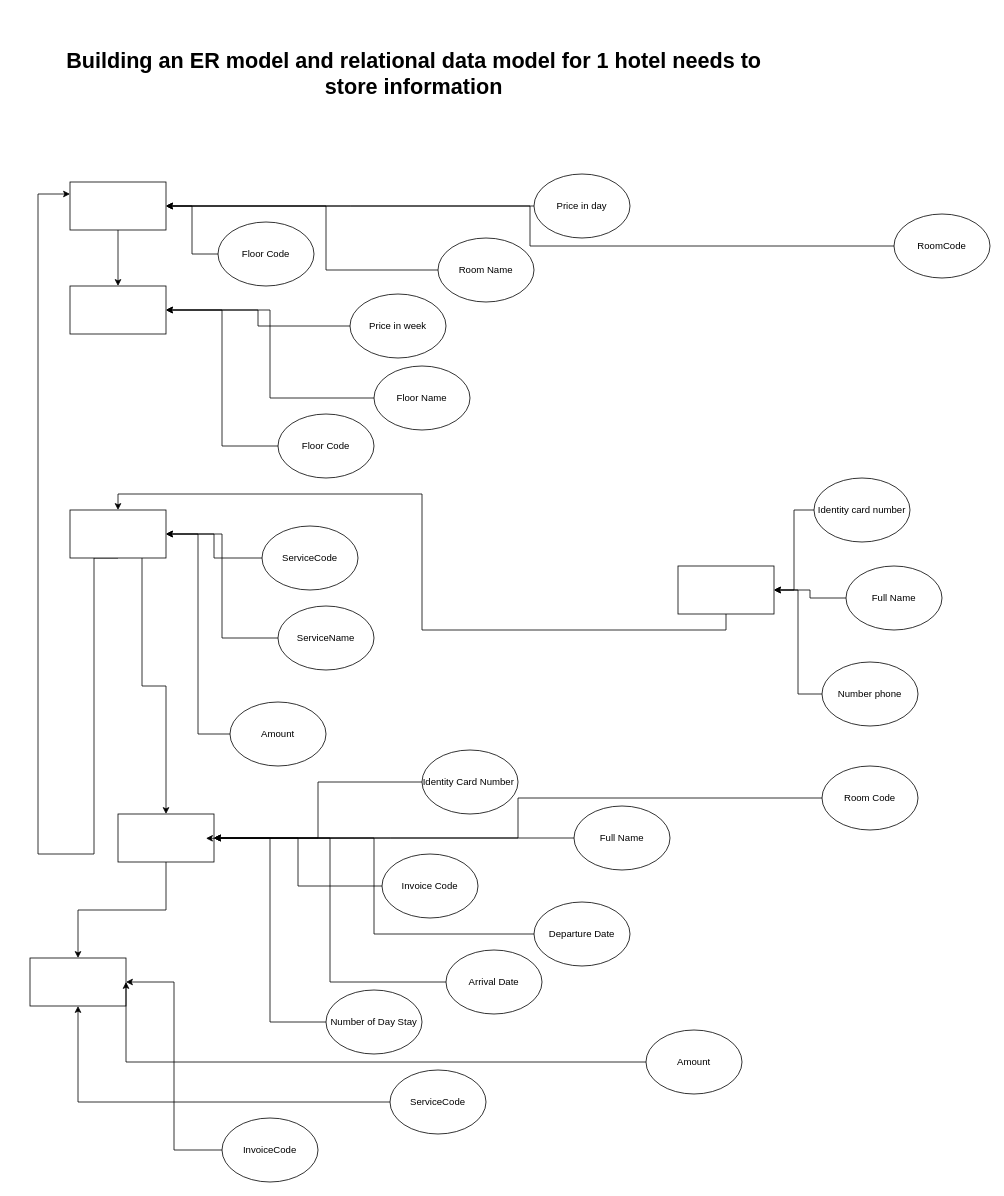
The diagram is 1004 pixels wide and 1196 high, and some of its shapes have lost their labels. Here are the shapes that lost their labels. From the top down, the box of each, then its label:
(69, 181, 166, 230): Room
(69, 285, 166, 334): Floor
(69, 509, 166, 558): Invoice
(677, 565, 774, 614): Guest
(117, 813, 214, 862): Room Service
(29, 957, 126, 1006): Service
